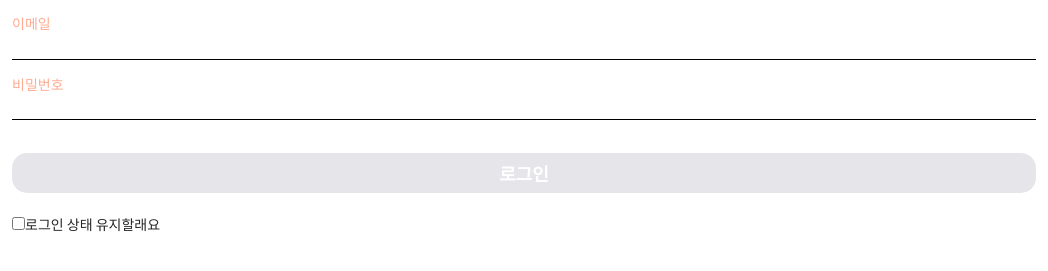
it: Login Event test › check email form
The width and height of the screenshot is (1048, 271).
Type "woasidh" into the field labelled "이메일" at (524, 50), box [12, 40, 1036, 60]
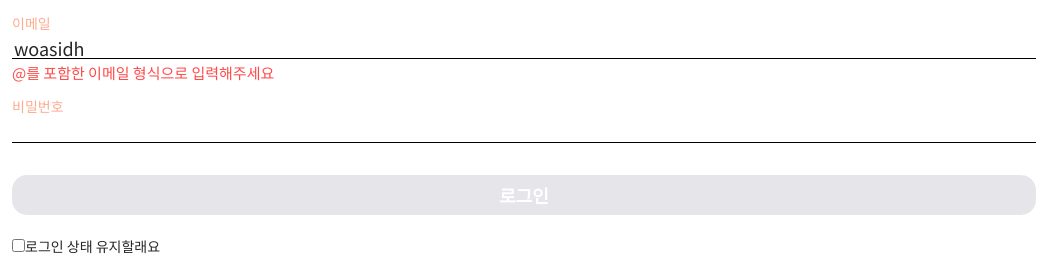
Check: the text with test id "email_status" reads "@를 포함한 이메일 형식으로 입력해주세요", box [12, 62, 274, 83]
Replace the text in the field labelled "이메일" with "woasidh@ajou.ac.kr" at (524, 49), box [12, 39, 1036, 59]
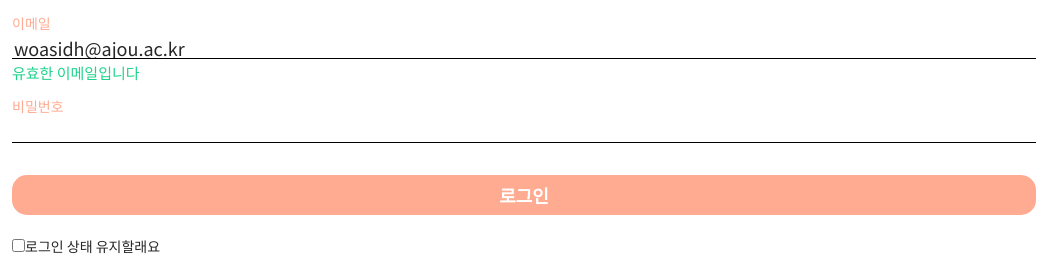
Check: the text with test id "email_status" reads "유효한 이메일입니다", box [12, 62, 140, 83]
